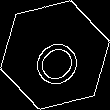O_NE: (22, 22, 88, 88)
